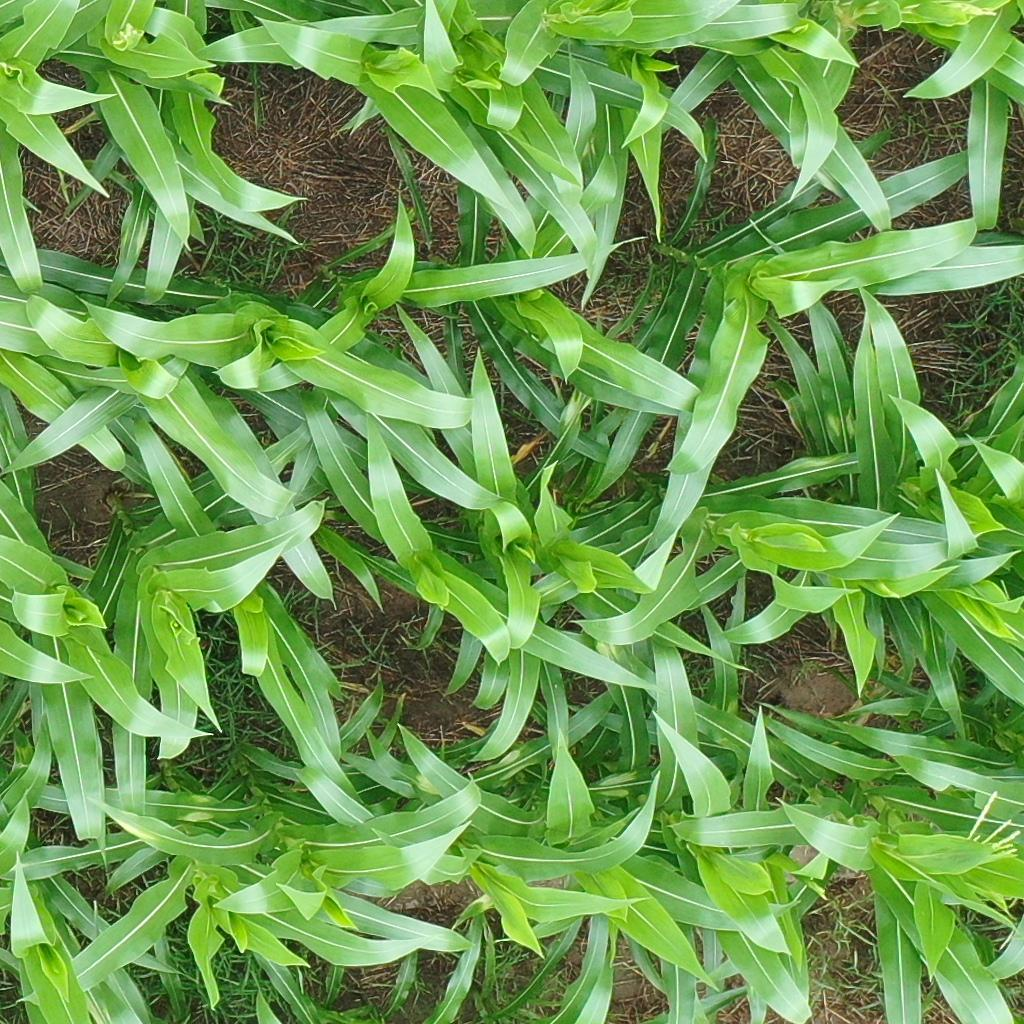Tassel: (962, 786, 1018, 862), (935, 1, 1001, 25), (111, 22, 144, 49)
